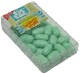grozi_21: (0, 2, 78, 72)
